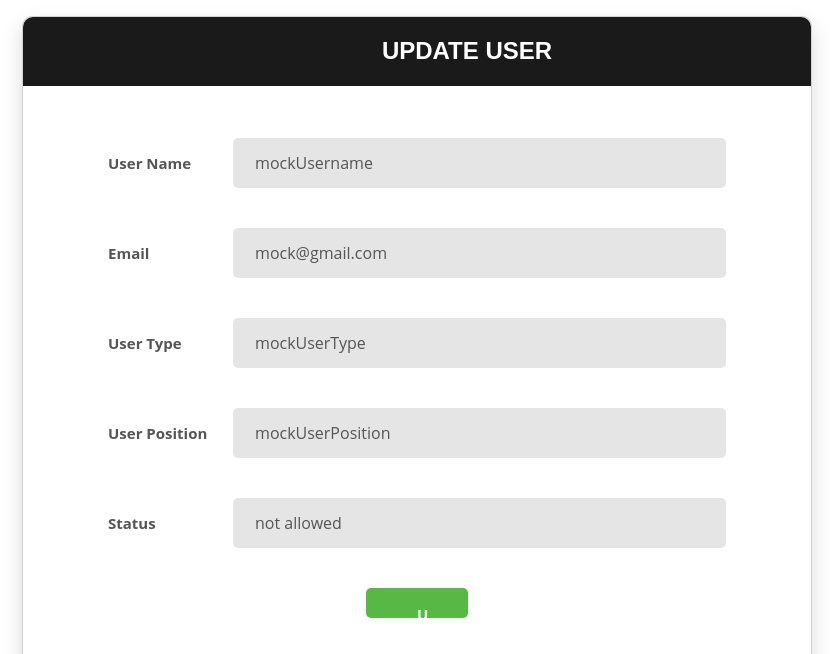
Scenario: UpdateUser Component › renders update user form
Expected: the field showing "mockUsername" next to "User Name" is shown, [233, 138, 726, 188]
Expected: the field showing "mock@gmail.com" next to "Email" is shown, [233, 228, 726, 278]
Replace the text in the field showing "mockUserType" next to "User Type" with "updatedUserType" at x=480, y=343, box [233, 318, 726, 368]
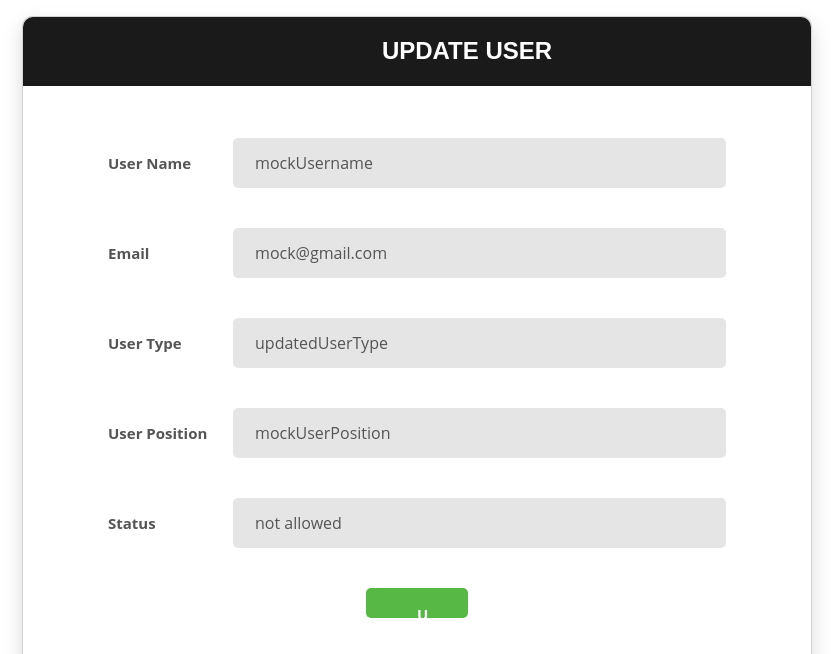
Click the button "Update" at x=417, y=603, box [366, 588, 468, 618]
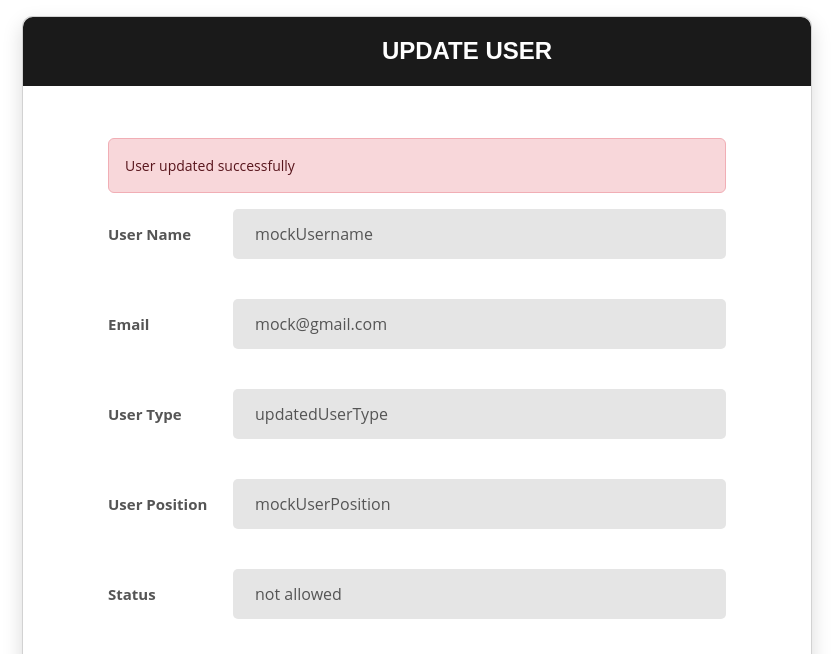
Expected: the text "User updated successfully" is shown, [108, 138, 726, 193]
